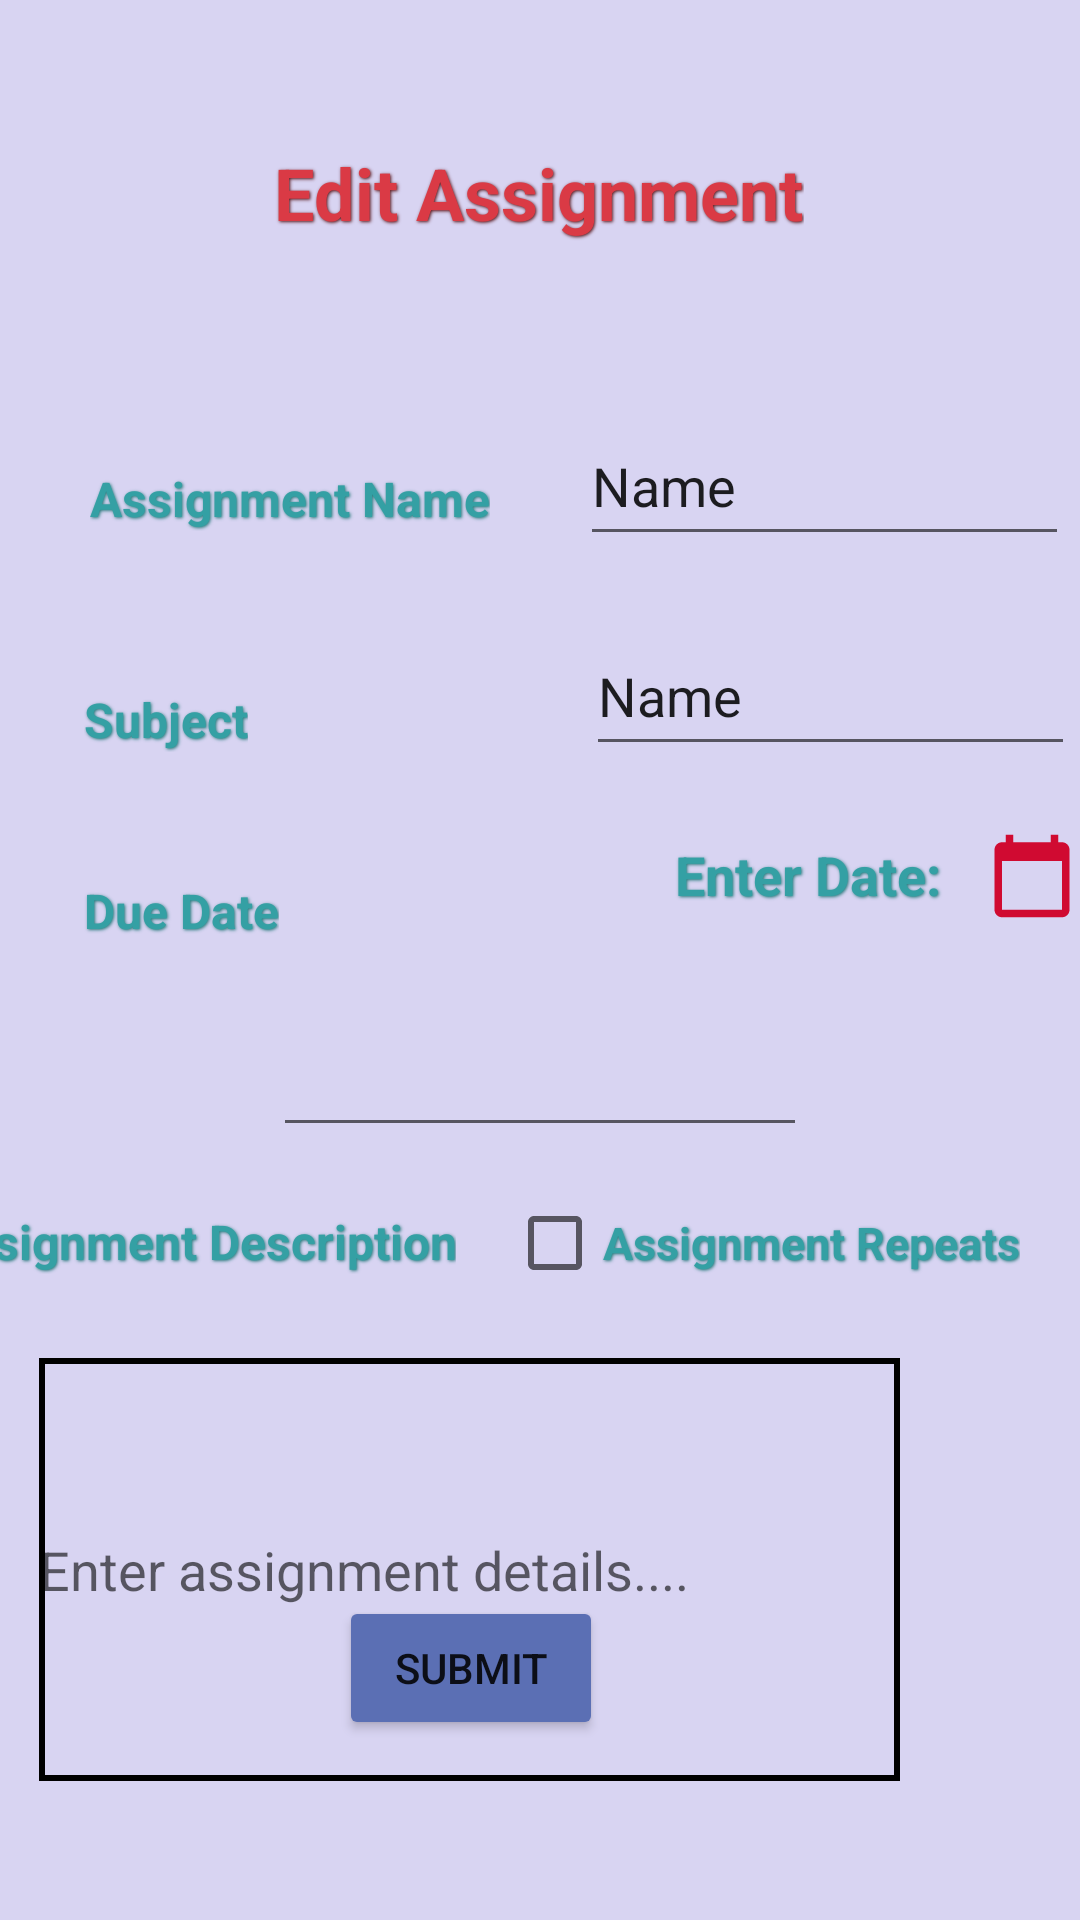

Named icons in this screenshot (1080w x 1920h) and their bounding boxes, (x1, y1, x2, y2):
calendar: (994, 834, 1070, 918)
